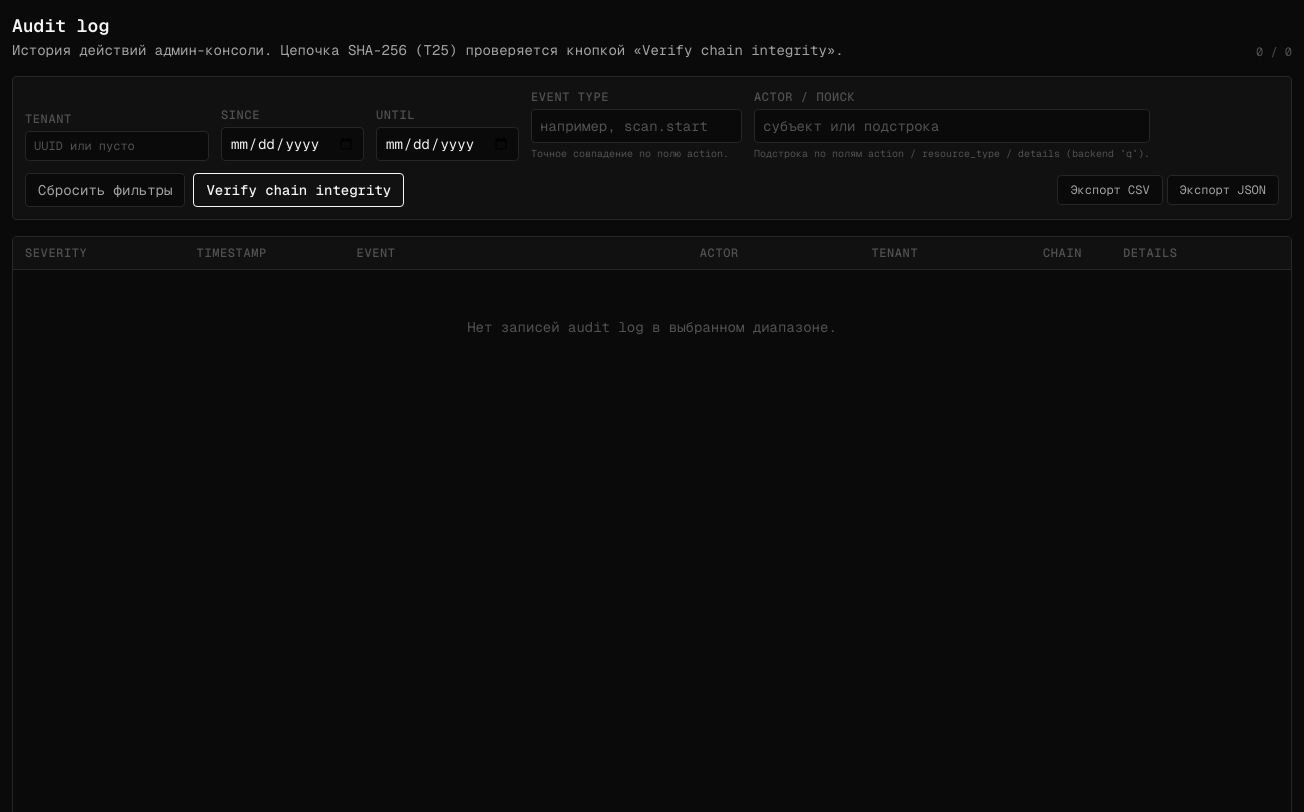
Test: AdminAuditLogsClient — admin › verify-chain failure surfaces the closed-taxonomy banner without leaking internals
This screenshot has width=1304, height=812.
Click the button with test id "audit-verify-chain": [299, 190] box x1=193 y1=173 x2=404 y2=207
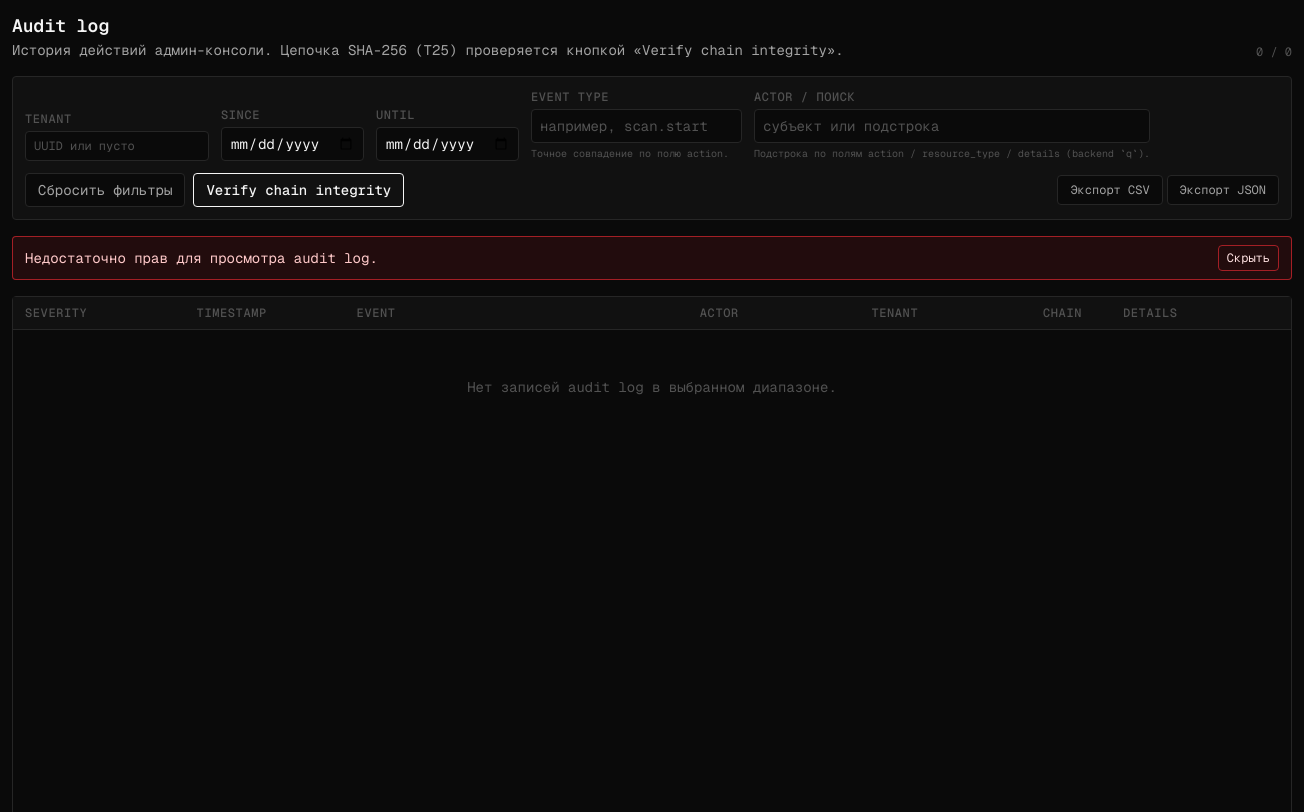
Expected: the message with test id "audit-chain-error" shows "прав", x1=25 y1=249 x2=378 y2=267
